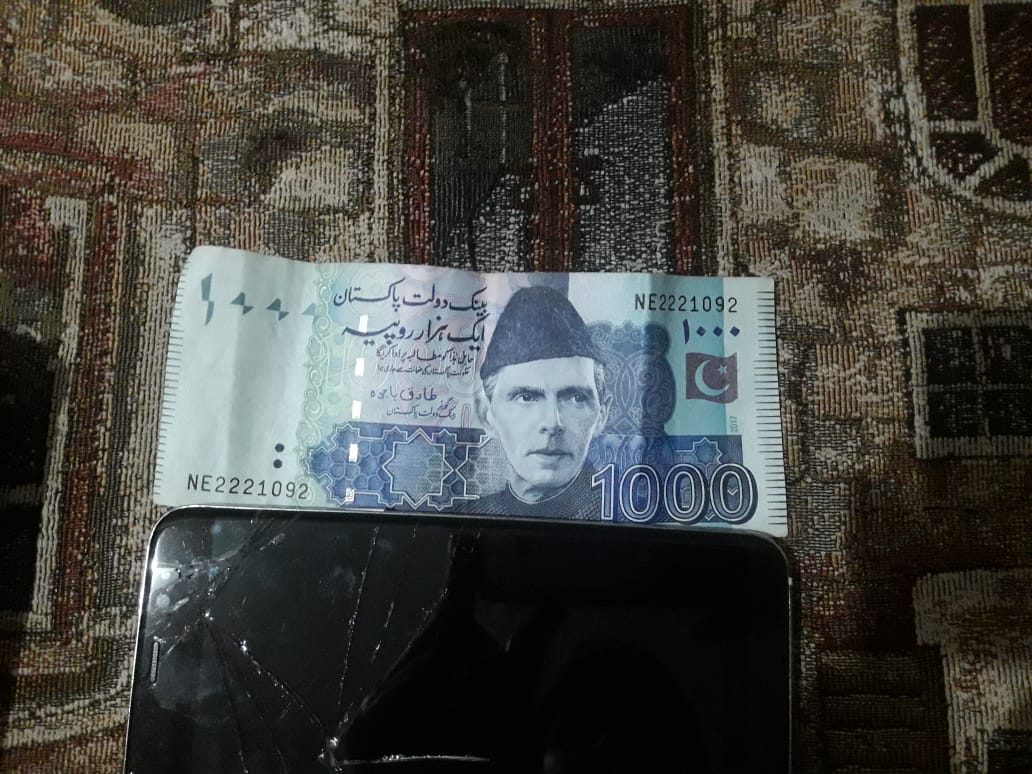1000 rupee: (147, 222, 863, 539)
